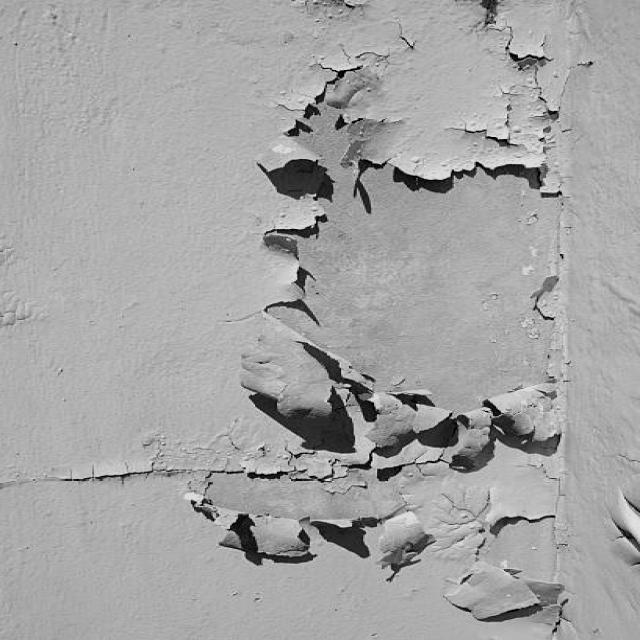peeling paint: (50, 0, 640, 633)
